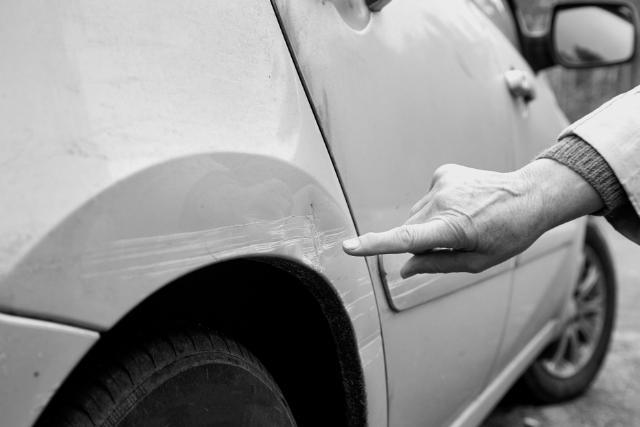Fender: (63, 171, 343, 314)
